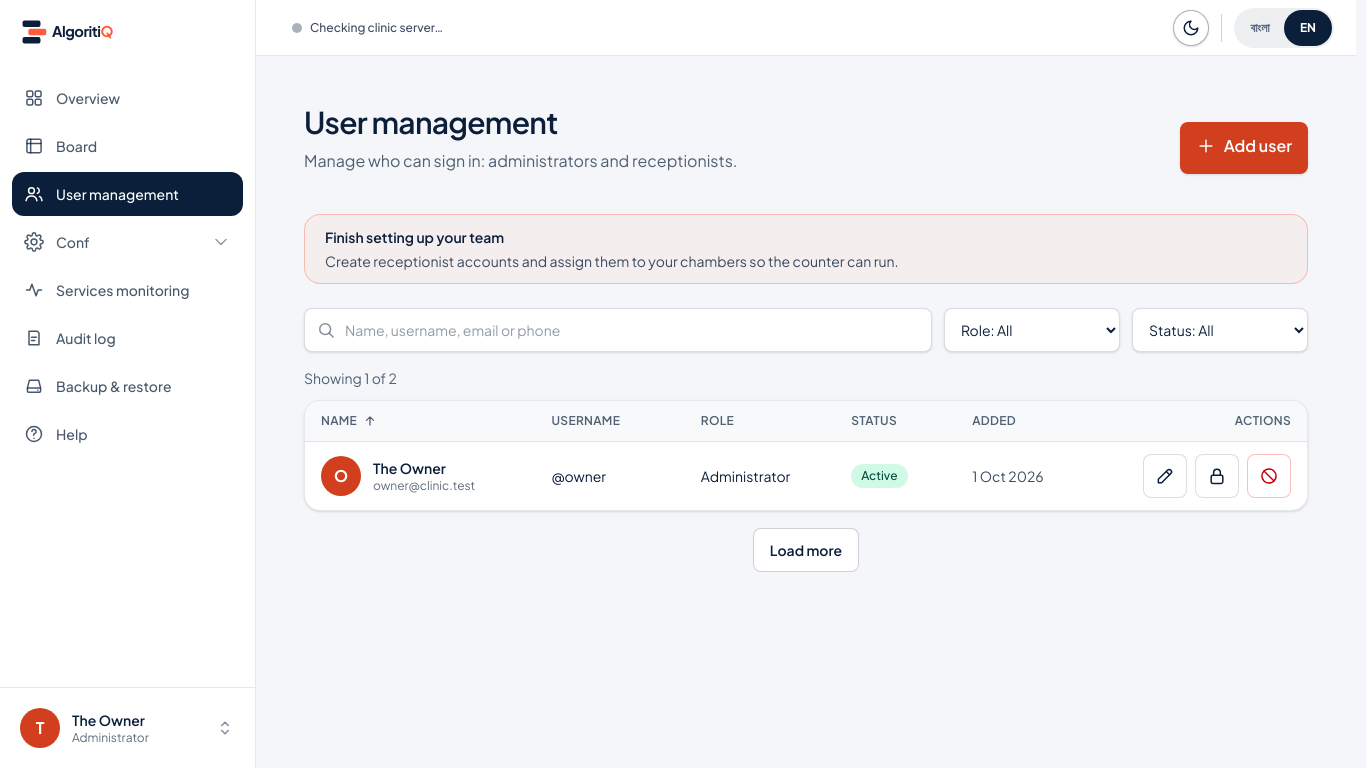
Test case: users page › paging on scroll › should show a Load more button where scrolling cannot load by itself
This screenshot has width=1366, height=768.
Expected: the table named "Users" is shown, [305, 401, 1307, 510]
Click the button "Load more" at (806, 550), box [753, 528, 859, 572]
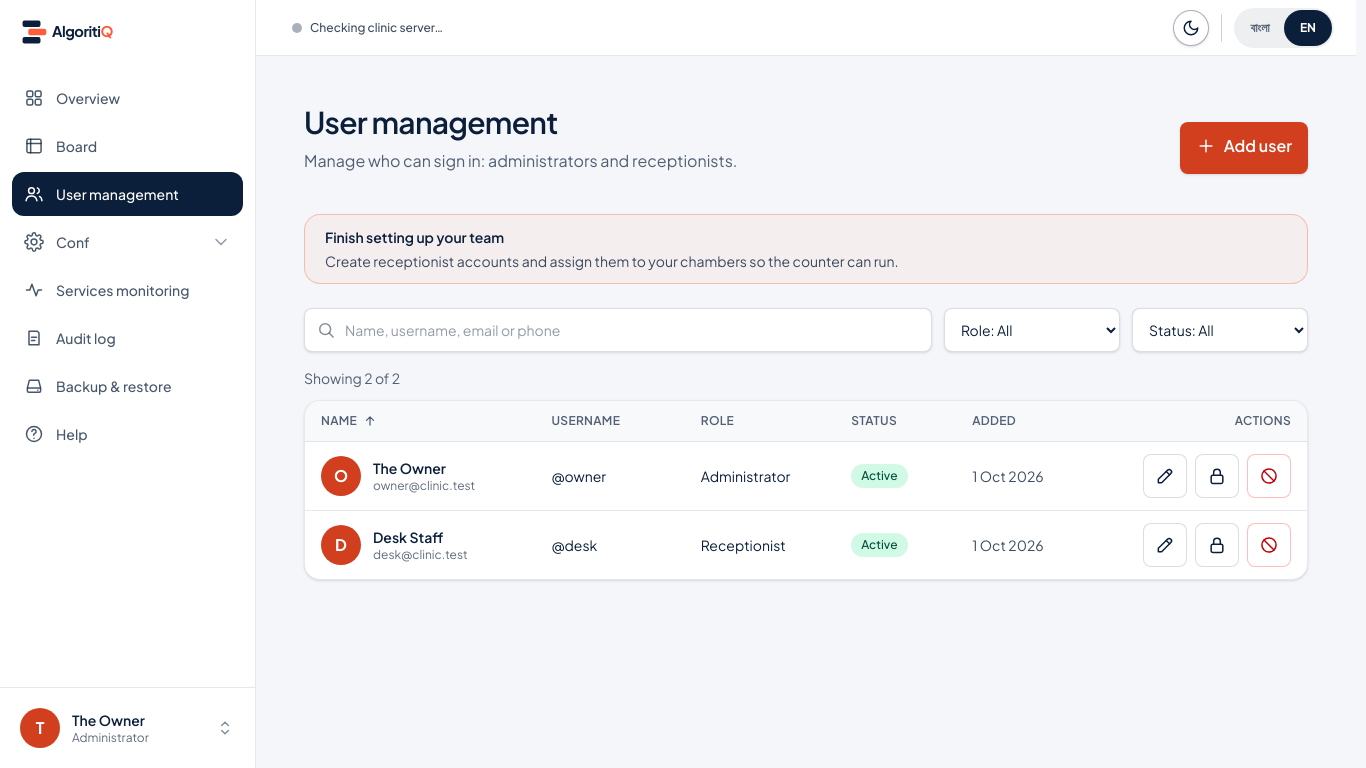
Expected: the text "Desk Staff" is shown, [373, 528, 443, 546]
